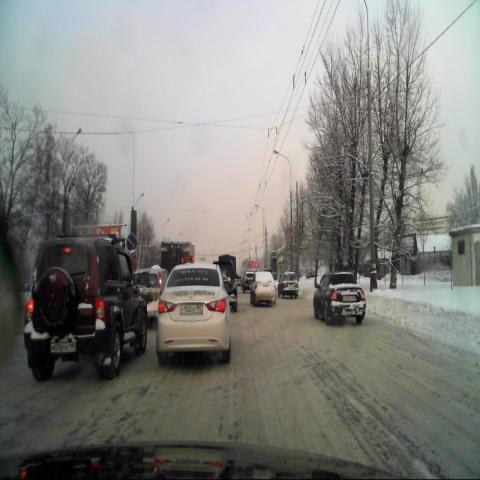4_2_1: (126, 232, 138, 253)
